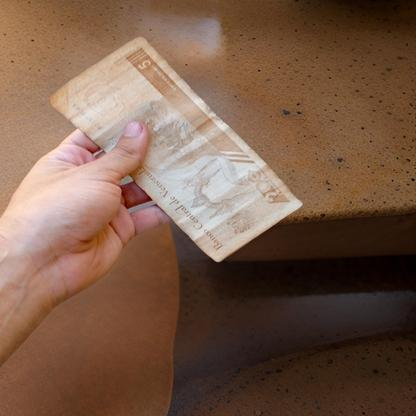vef_back: (47, 37, 303, 263)
